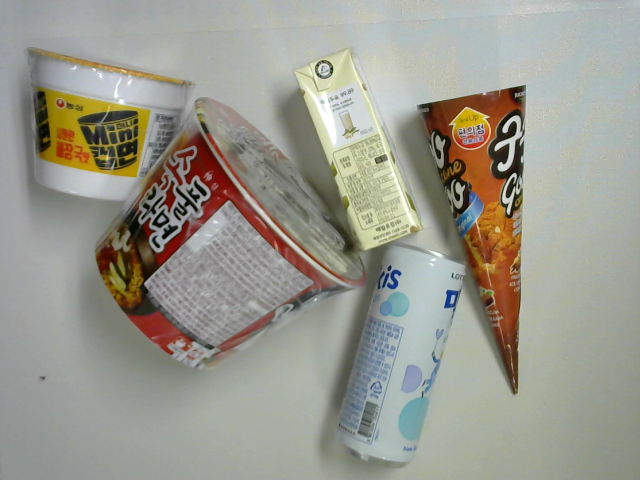99.89_Soymilk: (293, 45, 428, 253)
GooGoo_Cone_CVS: (416, 83, 528, 398)
Hejangmini: (20, 45, 197, 207)
Hejangpul: (94, 98, 370, 372)
Milkies_250ml: (332, 239, 468, 469)
